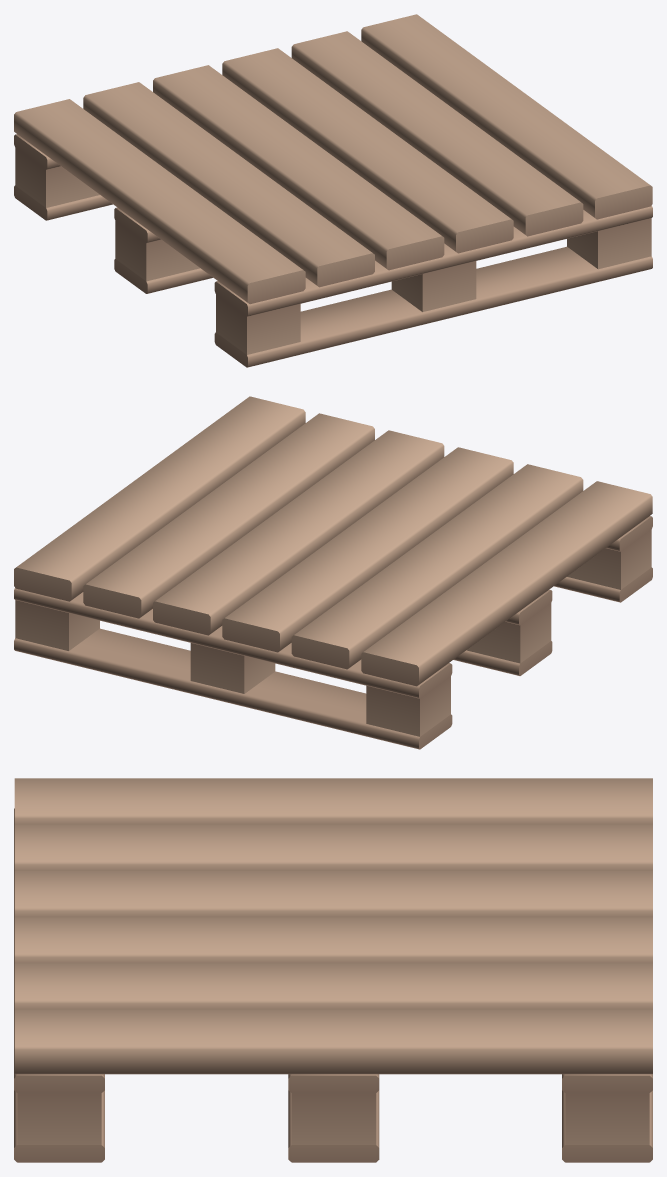
File: wooden-pallet-large.glb
The picture shows the model from 3 angles, top to bottom: view 1: azimuth 30°, elevation 25°; view 2: azimuth 150°, elevation 25°; view 3: azimuth 270°, elevation 25°; orthographic projection. The views are drawn at different scales.
Visible parts, largest first — view 1: wooden-pallet-large; view 2: wooden-pallet-large; view 3: wooden-pallet-large.
Part boxes in pixels (<box>): wooden-pallet-large: <box>14,14,652,367</box>; wooden-pallet-large: <box>14,396,652,749</box>; wooden-pallet-large: <box>14,778,652,1162</box>.
Size of the model in its own units: 1 by 0.2 by 1.
